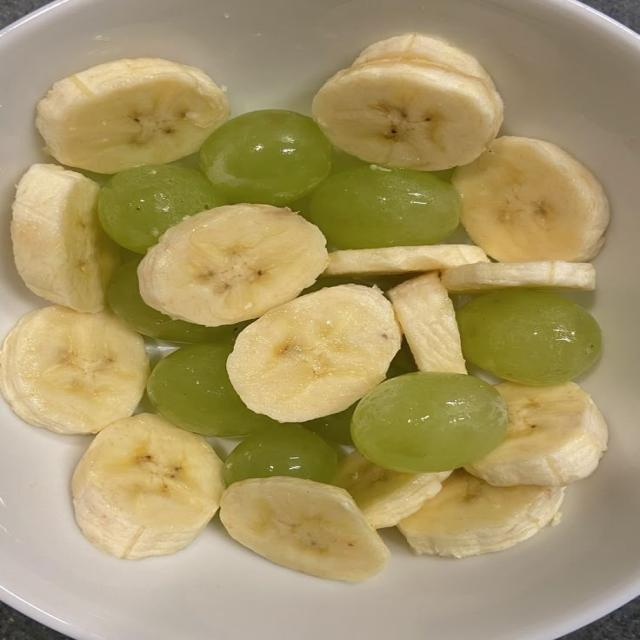banana slice: (227, 285, 400, 422), (139, 205, 327, 326), (36, 59, 229, 173), (72, 414, 223, 559), (313, 60, 502, 170), (453, 137, 609, 262), (0, 306, 148, 433), (220, 477, 389, 581), (12, 164, 119, 312), (466, 383, 607, 486), (399, 470, 565, 557), (333, 451, 451, 528), (387, 273, 467, 374), (354, 33, 493, 86), (324, 245, 488, 275), (442, 261, 595, 292)
grapes: (351, 372, 507, 473), (457, 288, 601, 385), (200, 110, 331, 206), (307, 166, 458, 249), (147, 344, 277, 437), (107, 260, 247, 343), (98, 165, 226, 254), (223, 424, 337, 485)
